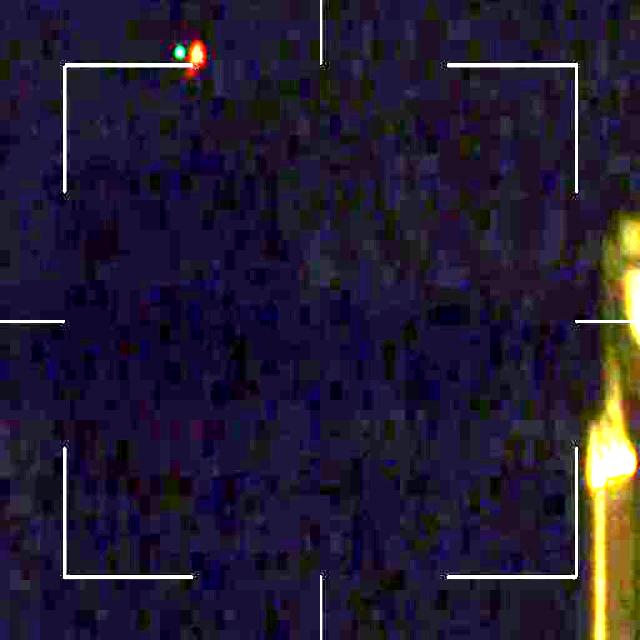bird: (171, 42, 205, 78)
